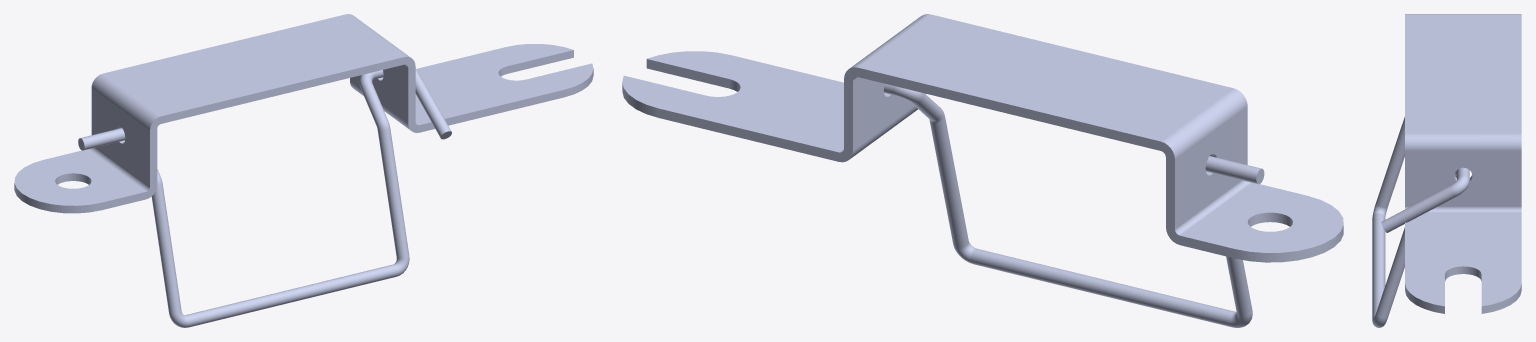
Rendered from Gate Assembly.fbx.
3 renders of one model, left to right at view 1: azimuth 30°, elevation 25°; view 2: azimuth 150°, elevation 25°; view 3: azimuth 270°, elevation 25°, orthographic. The views are drawn at different scales.
Parts seen in each view (by area): view 1: Gate BKT 1, Gate Wire 1; view 2: Gate BKT 1, Gate Wire 1; view 3: Gate BKT 1, Gate Wire 1.
Boxes of the visible parts, left/top/right/bottom form: Gate BKT 1: left=14, top=14, right=593, bottom=213; Gate Wire 1: left=78, top=68, right=451, bottom=327; Gate BKT 1: left=622, top=14, right=1343, bottom=262; Gate Wire 1: left=883, top=84, right=1264, bottom=327; Gate BKT 1: left=1405, top=14, right=1521, bottom=313; Gate Wire 1: left=1372, top=117, right=1469, bottom=327.
Size of the model in its own units: 7.04 by 2.45 by 1.63.
